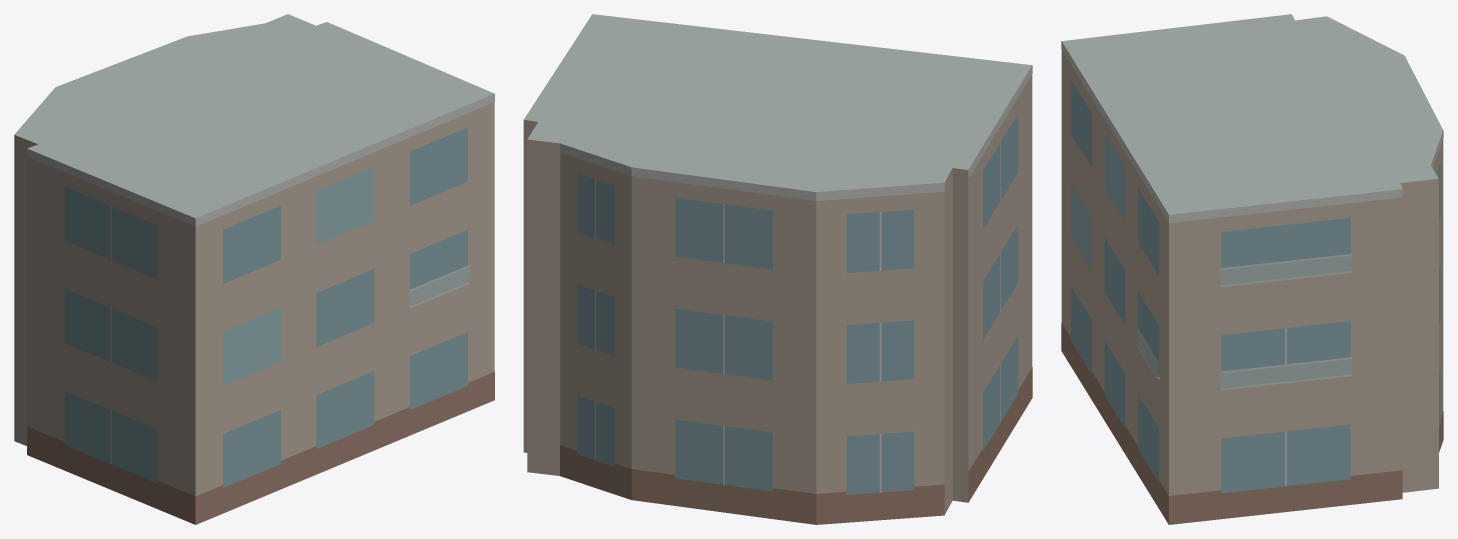
File: survey-upis-32661530.glb
3 views of the same model, side by side, from view 1: azimuth 30°, elevation 25°; view 2: azimuth 150°, elevation 25°; view 3: azimuth 270°, elevation 25° (orthographic). The views are drawn at different scales.
Parts seen in each view (by area): view 1: survey-upis-32661530.tmp; view 2: survey-upis-32661530.tmp; view 3: survey-upis-32661530.tmp.
Part boxes in pixels (box(x1,y1,x2,y2)): survey-upis-32661530.tmp: box(14, 14, 494, 524); survey-upis-32661530.tmp: box(523, 14, 1032, 524); survey-upis-32661530.tmp: box(1061, 14, 1443, 524).
Size of the model in its own units: 12.66 by 9.1 by 10.17.
